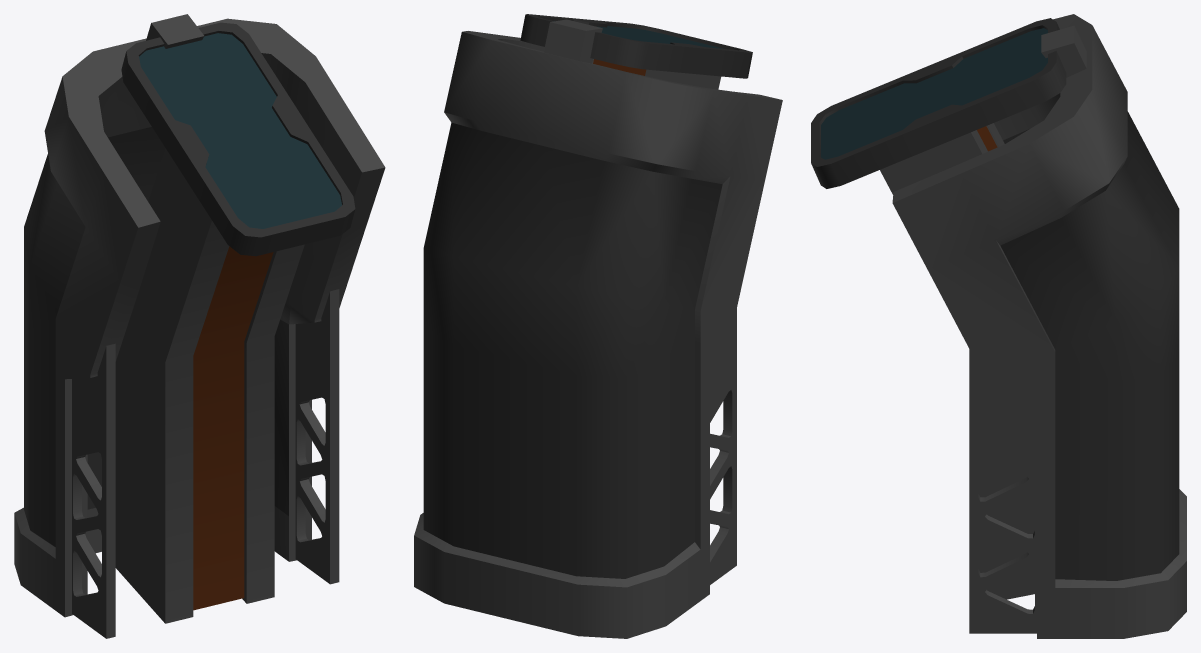
The model's file is Computer_Cube.obj.
3 renders of one model, left to right at view 1: azimuth 30°, elevation 25°; view 2: azimuth 150°, elevation 25°; view 3: azimuth 270°, elevation 25°, orthographic.
Parts seen in each view (by area): view 1: Computer_Cube.006; view 2: Computer_Cube.006; view 3: Computer_Cube.006.
Part boxes in pixels (x1,y1,x2,y2): Computer_Cube.006: (14, 14, 385, 638); Computer_Cube.006: (414, 14, 782, 638); Computer_Cube.006: (811, 14, 1186, 638).
Size of the model in its own units: 0.4697 by 1.01 by 0.6293.
